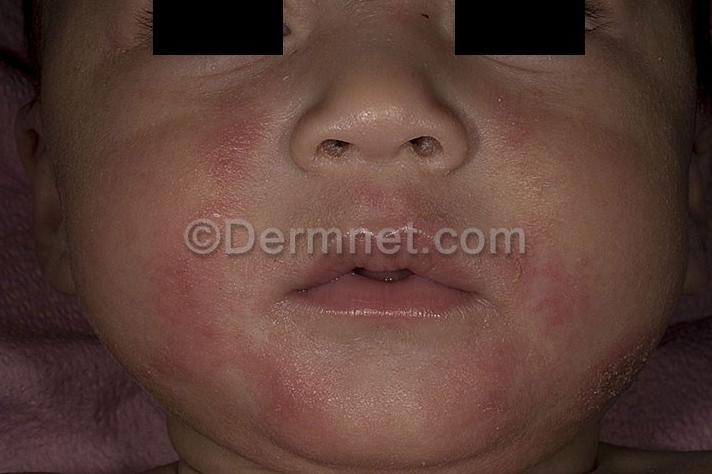eritema 1: (136, 91, 320, 442), (430, 89, 589, 462)
xerosis 2: (574, 320, 666, 418)
